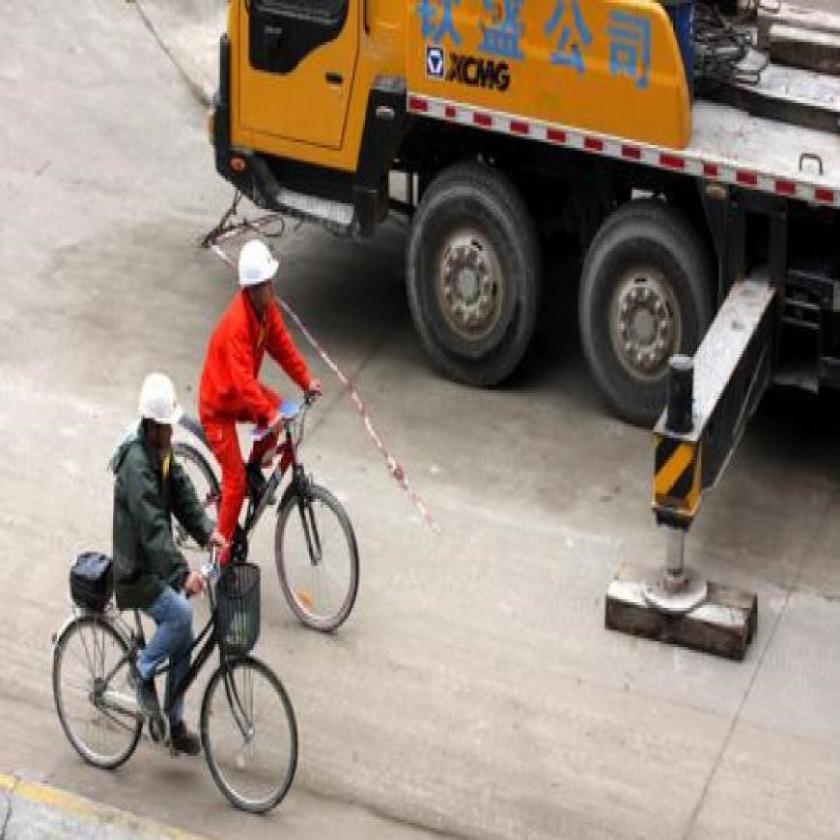Con_casco: (229, 238, 282, 324), (134, 372, 186, 456)
